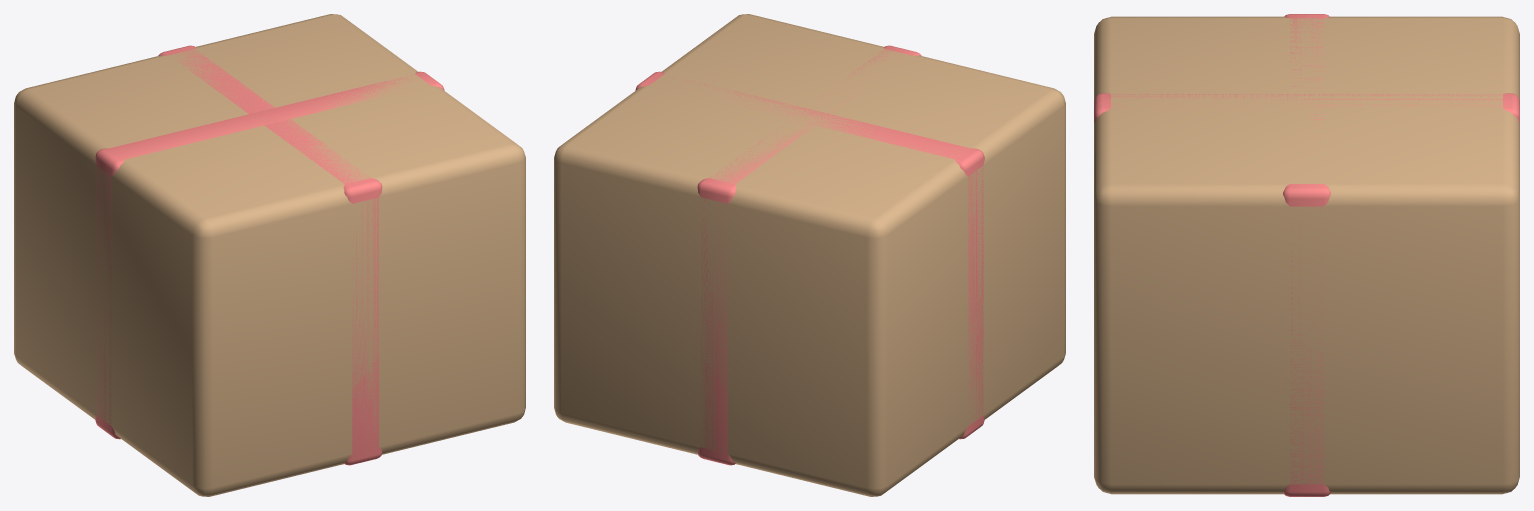
The picture shows the model from 3 angles, left to right: view 1: azimuth 30°, elevation 25°; view 2: azimuth 150°, elevation 25°; view 3: azimuth 270°, elevation 25°; orthographic projection. The views are drawn at different scales.
Parts seen in each view (by area): view 1: box; view 2: box; view 3: box.
Part boxes in pixels (x1,y1,x2,y2): box: (14, 14, 525, 496); box: (554, 14, 1065, 496); box: (1094, 14, 1519, 496).
Size of the model in its own units: 0.5 by 0.4 by 0.5.
